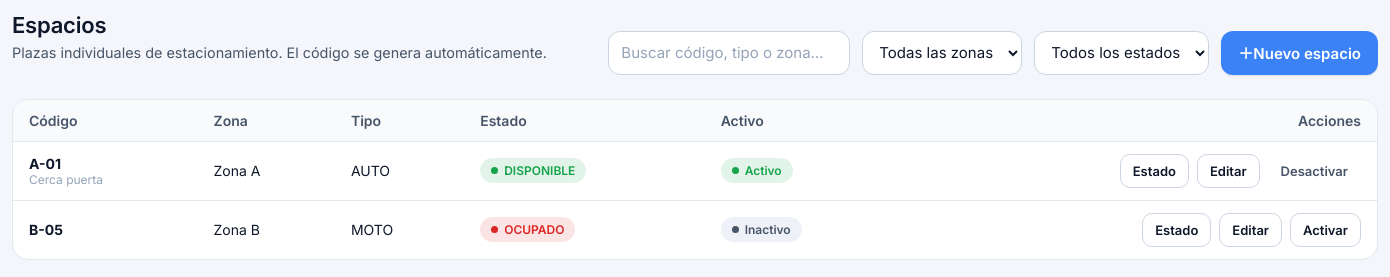
EspaciosPage › filtra por zona
The width and height of the screenshot is (1390, 277).
Expected: the text "A-01" is shown, [29,155,61,172]
Select "Zona B" in the dropdown named "Filtrar por zona" at [942, 53], box [862,31,1022,75]
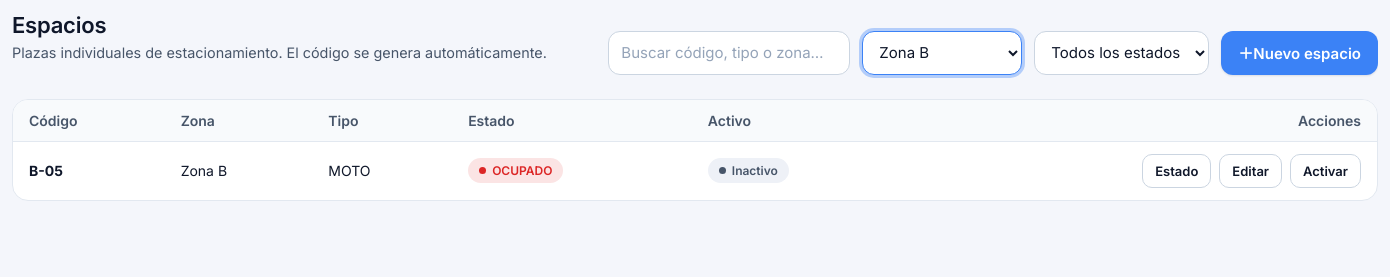
Expected: the text "B-05" is shown, [29,162,63,179]
Expected: the text "A-01" is gone
